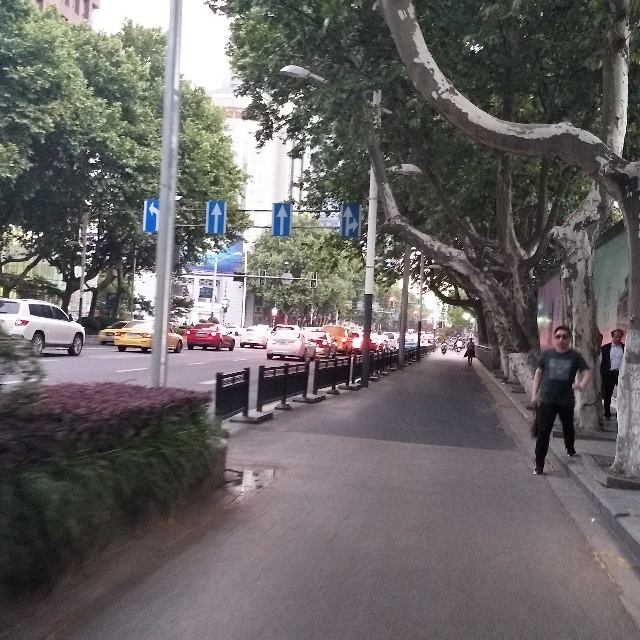left: (142, 198, 161, 234)
straight: (208, 200, 228, 232), (275, 203, 293, 233)
